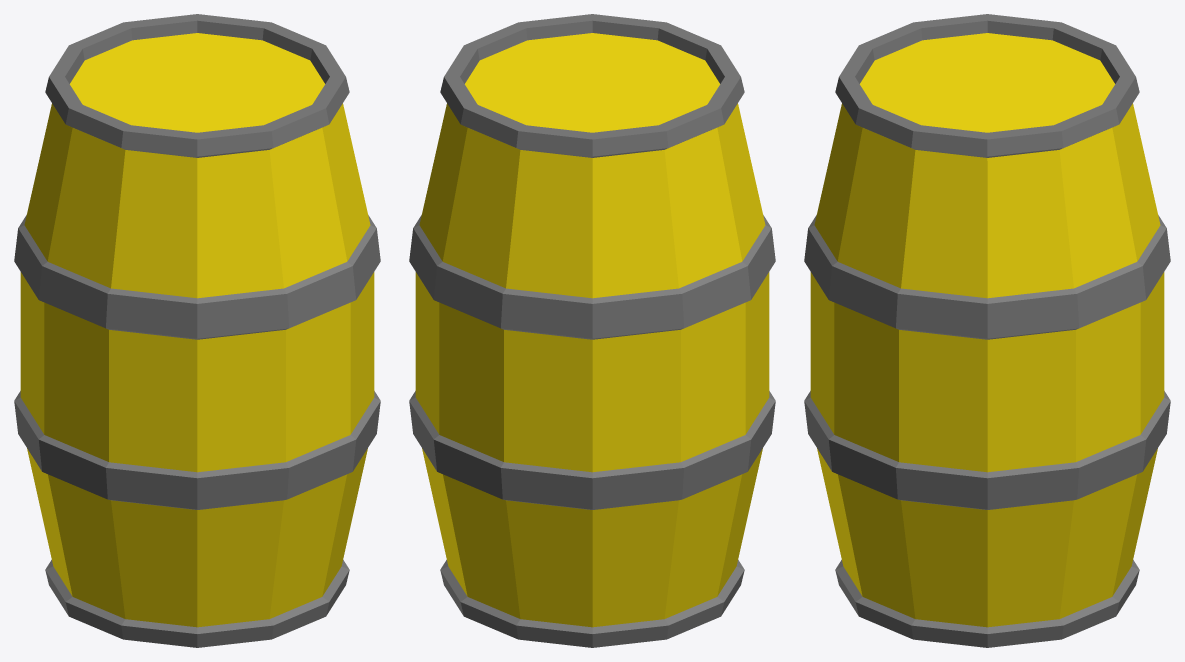
Rendered from drum_2.FBX.
The picture shows the model from 3 angles, left to right: view 1: azimuth 30°, elevation 25°; view 2: azimuth 150°, elevation 25°; view 3: azimuth 270°, elevation 25°; orthographic projection.
Parts seen in each view (by area): view 1: drum_2; view 2: drum_2; view 3: drum_2.
Part boxes in pixels (left/top/right/bottom): drum_2: left=14, top=14, right=380, bottom=647; drum_2: left=409, top=14, right=775, bottom=647; drum_2: left=804, top=14, right=1170, bottom=647.
Bounding box in the file's own units: 0.4867 × 0.7448 × 0.4867.
1 material, 1 textured.
